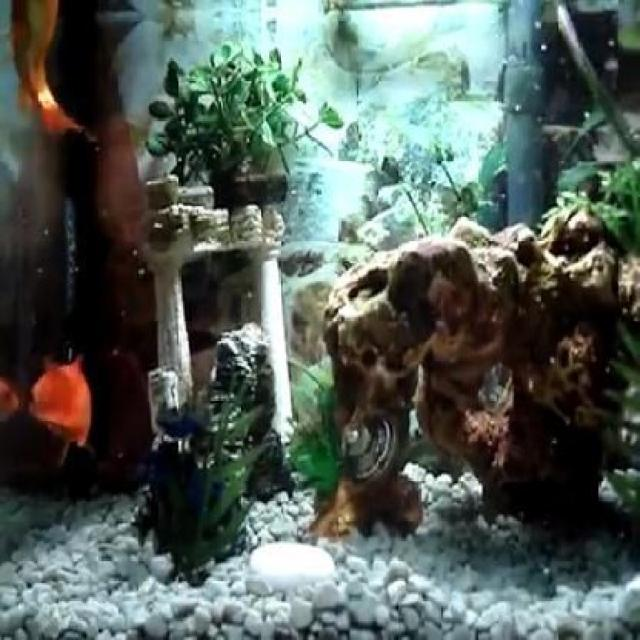GoldFish: (30, 343, 92, 462)
